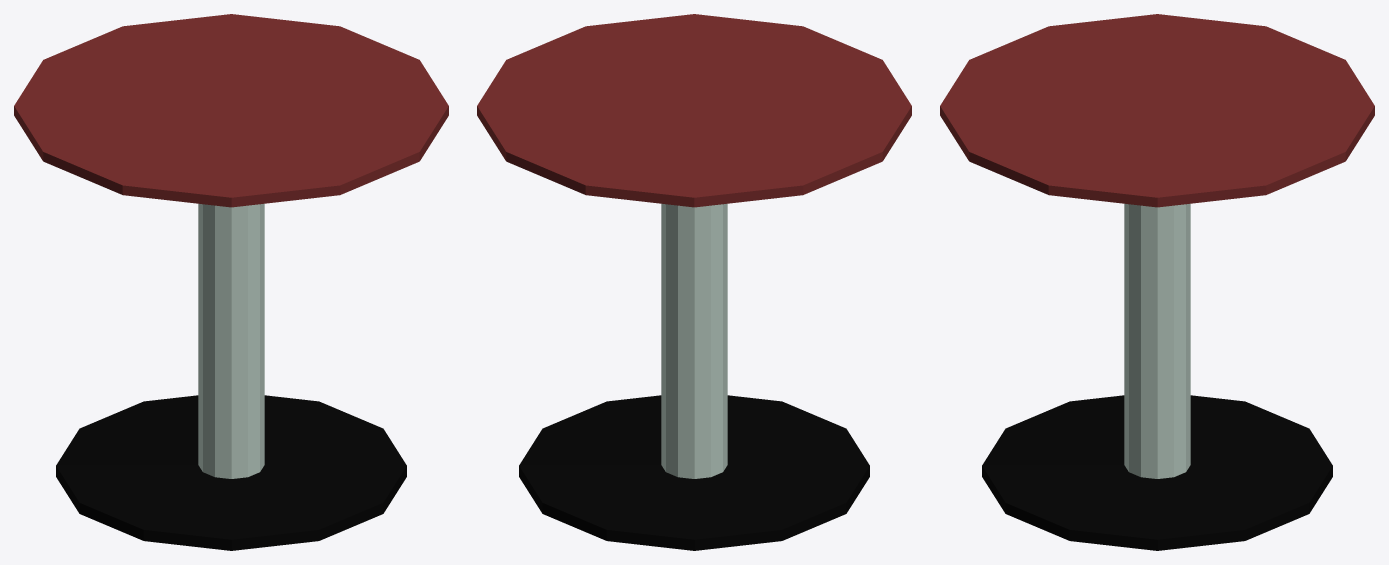
File: Chair.fbx
3 views of the same model, side by side, from view 1: azimuth 30°, elevation 25°; view 2: azimuth 150°, elevation 25°; view 3: azimuth 270°, elevation 25° (orthographic).
Parts seen in each view (by area): view 1: Chair; view 2: Chair; view 3: Chair.
Part boxes in pixels (x1,y1,x2,y2): Chair: (14, 14, 448, 550); Chair: (477, 14, 911, 550); Chair: (940, 14, 1374, 550).
Bounding box in the file's own units: 228 × 215 × 228.
